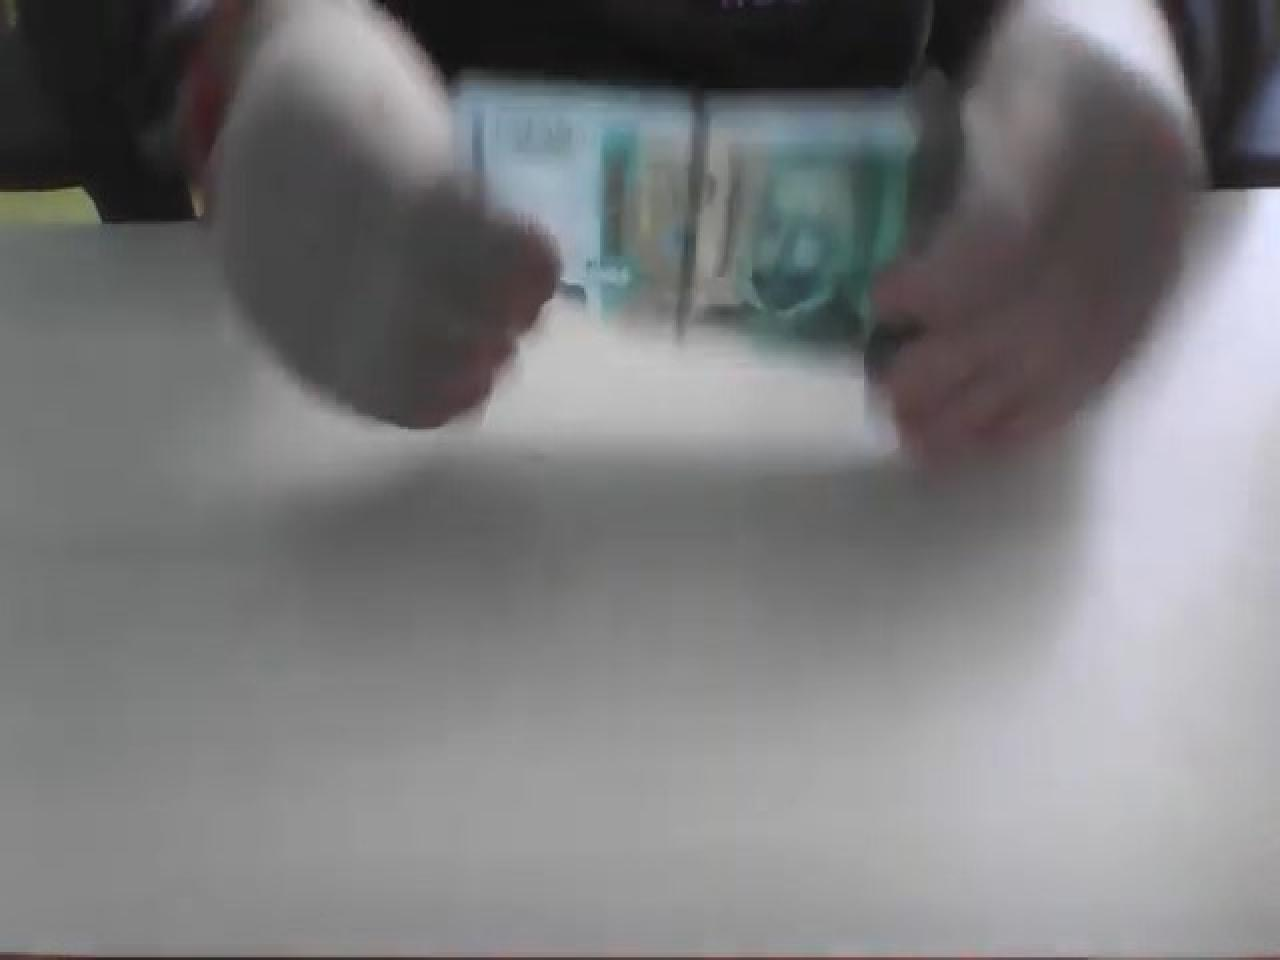100leva: (447, 70, 938, 365)
